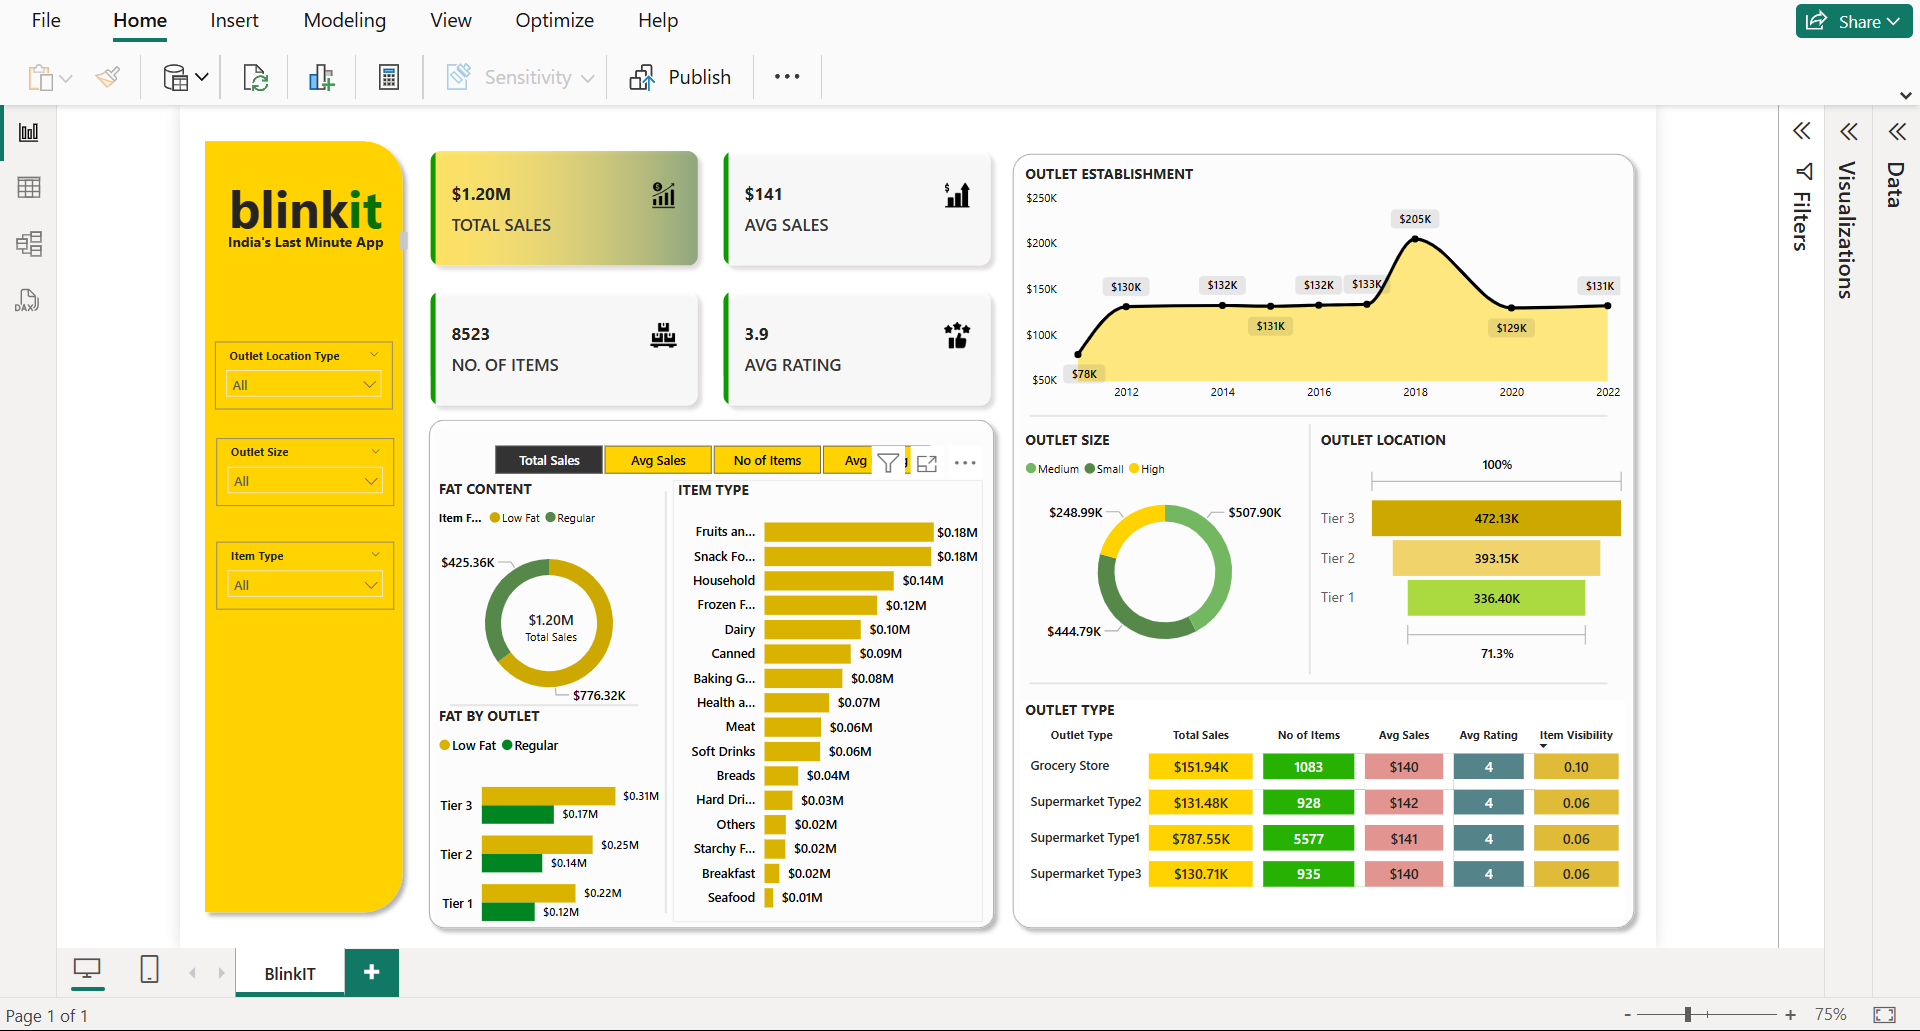

The page's visual inventory and layout, read from the dashboard file:
{"tool":"powerbi","page":{"name":"BlinkIT","canvas":[1400,800],"ordinal":0},"visuals":[{"type":"shape","box":[14.6,25.5,205.6,749.8],"z":0},{"type":"textbox","box":[32.9,59.7,171.8,82.2],"z":1000},{"type":"textbox","box":[268,25,206,750],"z":2000},{"type":"textbox","box":[25.4,115,195.7,26.9],"z":3000},{"type":"cardVisual","fields":{"Data":["BlinkIT Grocery Data.Total Sales","BlinkIT Grocery Data.Avg Sales","BlinkIT Grocery Data.No of Items","BlinkIT Grocery Data.Avg Rating"]},"box":[221.1,26.9,567.6,276.3],"z":4000},{"type":"shape","box":[227,289.8,554.1,500.4],"z":5000},{"type":"donutChart","title":"FAT CONTENT","fields":{"Y":["BlinkIT Grocery Data.Total Sales"],"Category":["BlinkIT Grocery Data.Item Fat Content"]},"box":[240.5,354,219.6,230],"z":6000},{"type":"slicer","fields":{"Values":["Metrics.Metrics"]},"box":[273.3,316.7,461.5,40.3],"z":7000},{"type":"cardVisual","fields":{"Data":["BlinkIT Grocery Data.Total Sales"]},"box":[301.7,461.5,101.6,62.7],"z":8000},{"type":"clusteredBarChart","title":"FAT BY OUTLET","fields":{"Y":["BlinkIT Grocery Data.Total Sales"],"Category":["BlinkIT Grocery Data.Outlet Location Type"],"Series":["BlinkIT Grocery Data.Item Fat Content"]},"box":[240.5,569.1,219.6,230],"z":9000},{"type":"shape","box":[256.9,560.1,179.2,17.9],"z":10000},{"type":"shape","box":[454.1,366,13.4,400.3],"z":11000},{"type":"barChart","title":"ITEM TYPE","fields":{"Y":["BlinkIT Grocery Data.Total Sales"],"Category":["BlinkIT Grocery Data.Item Type"]},"box":[467.5,355.5,294.3,419.7],"z":12000},{"type":"shape","box":[781.2,37.3,607.9,752.8],"z":13000},{"type":"lineChart","title":"OUTLET ESTABLISHMENT","fields":{"Category":["BlinkIT Grocery Data.Outlet Establishment Year"],"Y":["BlinkIT Grocery Data.Total Sales"]},"box":[796.1,55.3,575.1,234.5],"z":14000},{"type":"shape","box":[806.6,288.3,548.2,13.4],"z":15000},{"type":"donutChart","title":"OUTLET SIZE","fields":{"Category":["BlinkIT Grocery Data.Outlet Size"],"Y":["BlinkIT Grocery Data.Total Sales"]},"box":[796.1,307.7,274.8,225.5],"z":16000},{"type":"shape","box":[1065,303.2,13.4,237.5],"z":17000},{"type":"funnel","title":"OUTLET LOCATION","fields":{"Y":["Sum(BlinkIT Grocery Data.Sales)"],"Category":["BlinkIT Grocery Data.Outlet Location Type"]},"box":[1076.9,307.7,300.2,225.5],"z":18000},{"type":"shape","box":[806.6,542.2,548.2,13.4],"z":19000},{"type":"pivotTable","title":"OUTLET TYPE","fields":{"Rows":["BlinkIT Grocery Data.Outlet Type"],"Values":["BlinkIT Grocery Data.Total Sales","BlinkIT Grocery Data.No of Items","BlinkIT Grocery Data.Avg Sales","BlinkIT Grocery Data.Avg Rating","Avg(BlinkIT Grocery Data.Item Visibility)"]},"box":[796.1,564.6,573.6,207.6],"z":20000},{"type":"slicer","fields":{"Values":["BlinkIT Grocery Data.Outlet Location Type"]},"box":[32.9,224.1,168.8,64.2],"z":21000},{"type":"slicer","fields":{"Values":["BlinkIT Grocery Data.Outlet Size"]},"box":[34.4,316.7,168.8,64.2],"z":22000},{"type":"slicer","fields":{"Values":["BlinkIT Grocery Data.Item Type"]},"box":[34.4,413.7,168.8,64.2],"z":23000}]}

Visuals, with their boxes on the page's 1400x800 design canvas (x1, y1, x2, y2). These are canvas units, not pixel positions in the 1920x1031 screenshot, which may show the page scaled, cropped or inside an application window:
shape: left=15, top=26, right=220, bottom=775
textbox: left=33, top=60, right=205, bottom=142
textbox: left=268, top=25, right=474, bottom=775
textbox: left=25, top=115, right=221, bottom=142
cardVisual - BlinkIT Grocery Data.Total Sales x BlinkIT Grocery Data.Avg Sales: left=221, top=27, right=789, bottom=303
shape: left=227, top=290, right=781, bottom=790
"FAT CONTENT" donutChart: left=240, top=354, right=460, bottom=584
slicer - Metrics.Metrics: left=273, top=317, right=735, bottom=357
cardVisual - BlinkIT Grocery Data.Total Sales: left=302, top=462, right=403, bottom=524
"FAT BY OUTLET" clusteredBarChart: left=240, top=569, right=460, bottom=799
shape: left=257, top=560, right=436, bottom=578
shape: left=454, top=366, right=468, bottom=766
"ITEM TYPE" barChart: left=468, top=356, right=762, bottom=775
shape: left=781, top=37, right=1389, bottom=790
"OUTLET ESTABLISHMENT" lineChart: left=796, top=55, right=1371, bottom=290
shape: left=807, top=288, right=1355, bottom=302
"OUTLET SIZE" donutChart: left=796, top=308, right=1071, bottom=533
shape: left=1065, top=303, right=1078, bottom=541
"OUTLET LOCATION" funnel: left=1077, top=308, right=1377, bottom=533
shape: left=807, top=542, right=1355, bottom=556
"OUTLET TYPE" pivotTable: left=796, top=565, right=1370, bottom=772
slicer - BlinkIT Grocery Data.Outlet Location Type: left=33, top=224, right=202, bottom=288
slicer - BlinkIT Grocery Data.Outlet Size: left=34, top=317, right=203, bottom=381
slicer - BlinkIT Grocery Data.Item Type: left=34, top=414, right=203, bottom=478
